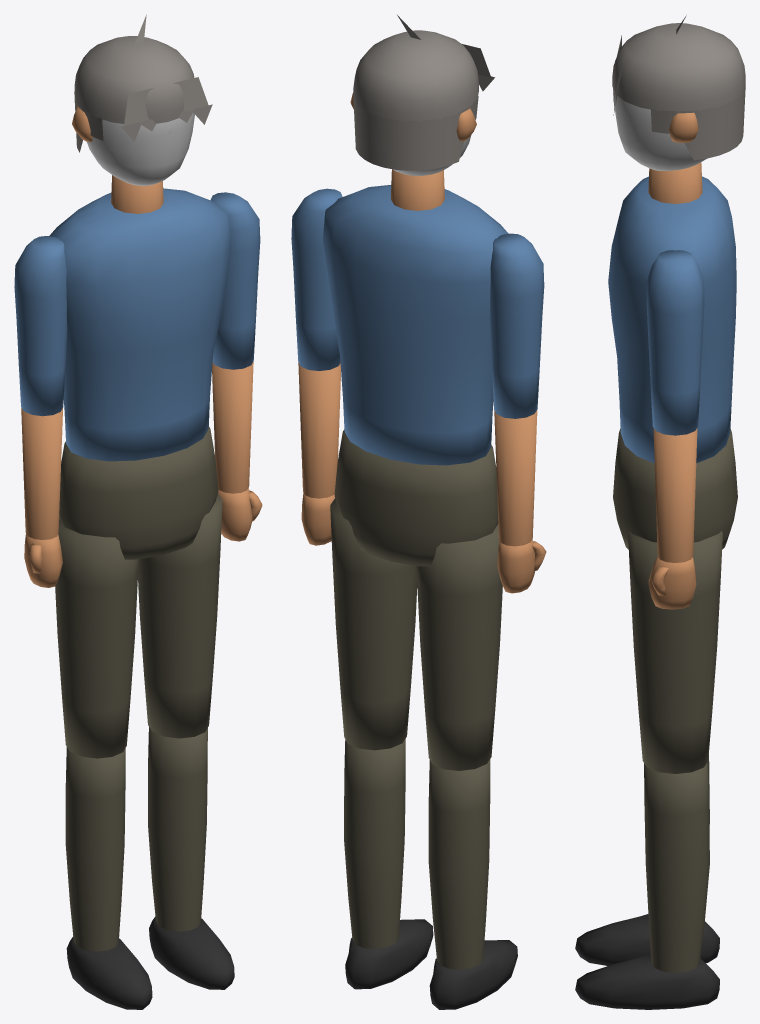
Rendered from ojisan.glb.
3 renders of one model, left to right at view 1: azimuth 30°, elevation 25°; view 2: azimuth 150°, elevation 25°; view 3: azimuth 270°, elevation 25°, orthographic. The views are drawn at different scales.
Parts seen in each view (by area): view 1: torso, legR, head, shinR, shinL, legL, hips, armR, foreR, foreL, armL; view 2: torso, legR, head, legL, shinR, shinL, hips, armR, foreR, armL, foreL; view 3: torso, shinL, head, legL, armL, foreL, hips, shinR.
Boxes of the visible parts, bbox=[...] form: torso: bbox=[49, 175, 231, 461]; legR: bbox=[55, 518, 138, 758]; head: bbox=[72, 14, 212, 185]; shinR: bbox=[65, 747, 152, 1009]; shinL: bbox=[148, 727, 234, 989]; legL: bbox=[138, 493, 222, 738]; hips: bbox=[59, 426, 218, 559]; armR: bbox=[14, 236, 67, 416]; foreR: bbox=[21, 408, 62, 587]; foreL: bbox=[212, 361, 262, 541]; armL: bbox=[210, 192, 260, 369]; torso: bbox=[323, 169, 508, 465]; legR: bbox=[416, 524, 502, 770]; head: bbox=[350, 15, 494, 175]; legL: bbox=[330, 498, 417, 750]; shinR: bbox=[428, 759, 517, 1009]; shinL: bbox=[344, 739, 433, 989]; hips: bbox=[334, 429, 498, 566]; armR: bbox=[489, 233, 544, 418]; foreR: bbox=[494, 410, 546, 593]; armL: bbox=[291, 188, 342, 370]; foreL: bbox=[298, 362, 340, 545]; torso: bbox=[608, 162, 736, 463]; shinL: bbox=[575, 763, 719, 1009]; head: bbox=[612, 15, 745, 170]; legL: bbox=[628, 531, 722, 773]; armL: bbox=[646, 250, 704, 435]; foreL: bbox=[648, 428, 697, 609]; hips: bbox=[613, 428, 737, 549]; shinR: bbox=[575, 754, 719, 965].
Bounding box in the file's own units: 0.4845 × 1.84 × 0.2923.
